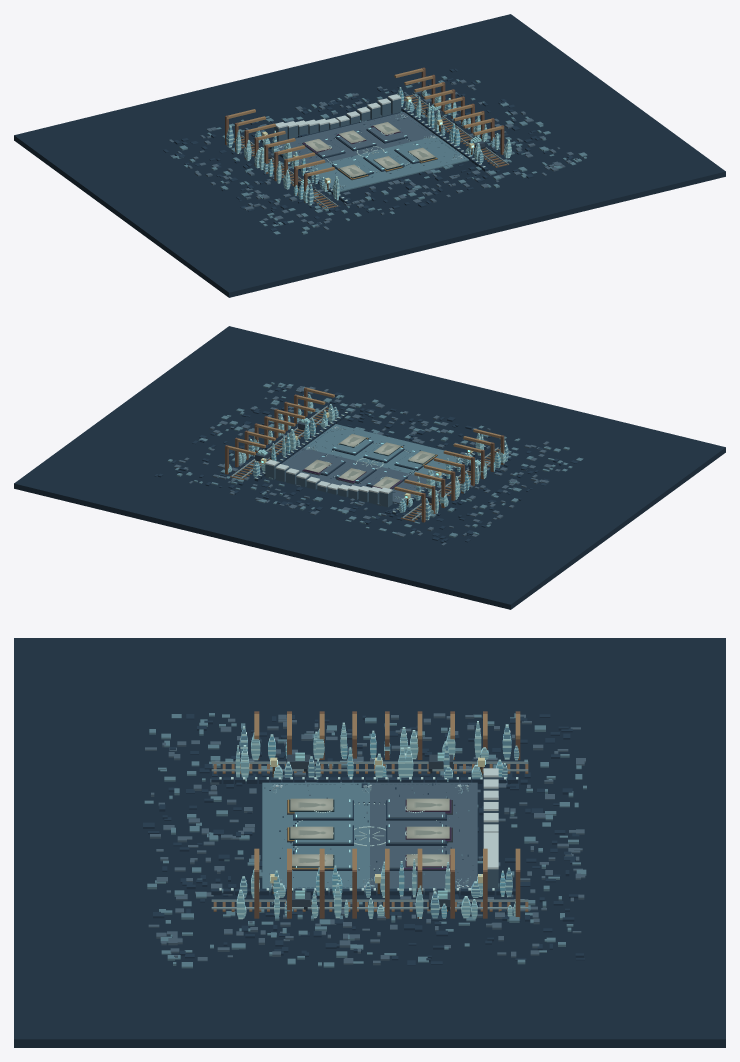
Rendered from frost.glb.
3 views of the same model, one above another, from view 1: azimuth 30°, elevation 25°; view 2: azimuth 150°, elevation 25°; view 3: azimuth 270°, elevation 25° (orthographic). The views are drawn at different scales.
Parts seen in each view (by area): view 1: Bedrock, Outer_Rubble, Mine_Timber_Braces, Crystal_Facets, Friendly_Floor, Enemy_Floor, Six_Grounded_Foundations, Back_Glacier_Ledge, Mine_Sleepers, Snow_Caps, Border_Coping; view 2: Bedrock, Outer_Rubble, Mine_Timber_Braces, Crystal_Facets, Friendly_Floor, Enemy_Floor, Six_Grounded_Foundations, Back_Glacier_Ledge, Mine_Sleepers, Snow_Caps, Border_Coping; view 3: Bedrock, Outer_Rubble, Crystal_Facets, Friendly_Floor, Enemy_Floor, Mine_Timber_Braces, Six_Grounded_Foundations, Border_Coping, Ore_Rail, Snow_Caps, Mine_Sleepers.
Part boxes in pixels (x1,y1,x2,y2): Bedrock: (14,14,725,297); Outer_Rubble: (163,68,587,234); Mine_Timber_Braces: (225,67,504,202); Crystal_Facets: (226,87,511,205); Friendly_Floor: (306,136,469,192); Enemy_Floor: (277,112,436,166); Six_Grounded_Foundations: (305,127,422,179); Back_Glacier_Ledge: (274,98,401,141); Mine_Sleepers: (233,94,509,208); Snow_Caps: (275,94,401,128); Border_Coping: (254,105,488,204); Bedrock: (14,326,725,609); Outer_Rubble: (154,382,583,545); Mine_Timber_Braces: (225,387,504,522); Crystal_Facets: (228,394,508,520); Friendly_Floor: (303,424,463,476); Enemy_Floor: (281,448,426,503); Six_Grounded_Foundations: (317,439,434,489); Back_Glacier_Ledge: (265,463,392,507); Mine_Sleepers: (230,407,499,521); Snow_Caps: (265,459,392,493); Border_Coping: (254,410,488,514); Bedrock: (14,638,725,1047); Outer_Rubble: (143,713,586,968); Crystal_Facets: (235,721,519,919); Friendly_Floor: (262,782,369,892); Enemy_Floor: (370,782,477,892); Mine_Timber_Braces: (254,711,520,918); Six_Grounded_Foundations: (293,799,446,870); Border_Coping: (211,777,518,895); Ore_Rail: (211,761,528,909); Snow_Caps: (483,768,498,869); Mine_Sleepers: (213,764,528,911).
Size of the model in its own units: 48 by 3.1 by 36.
36 materials, 1 textured.
